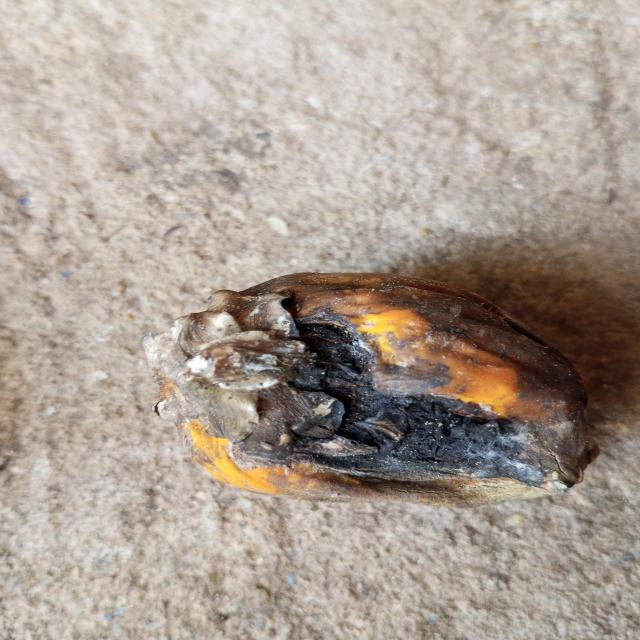damaged: (144, 273, 598, 505)
